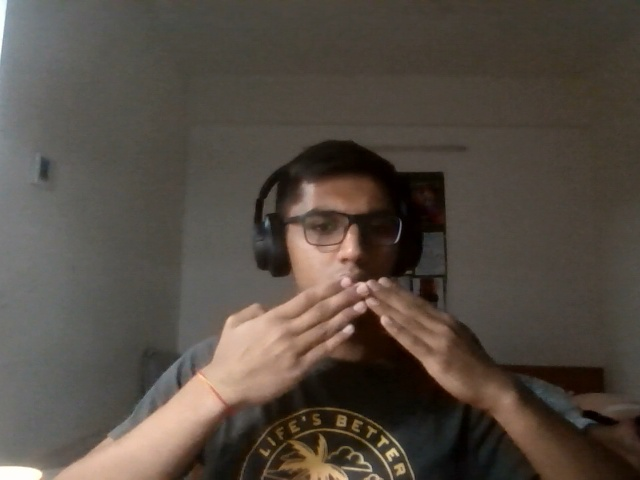thankyou: (182, 262, 505, 416)
